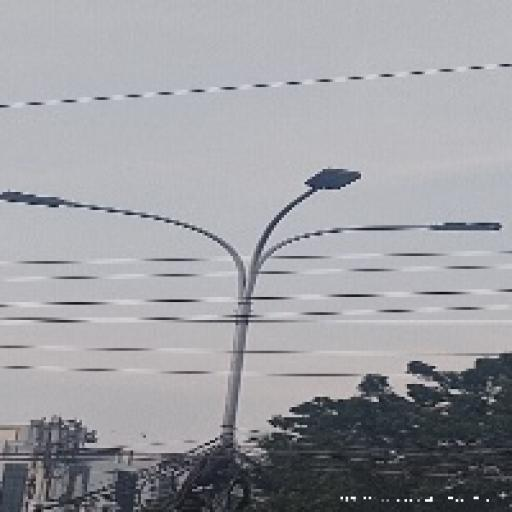Not Working: (0, 182, 76, 222), (421, 213, 505, 242), (303, 161, 365, 199)
